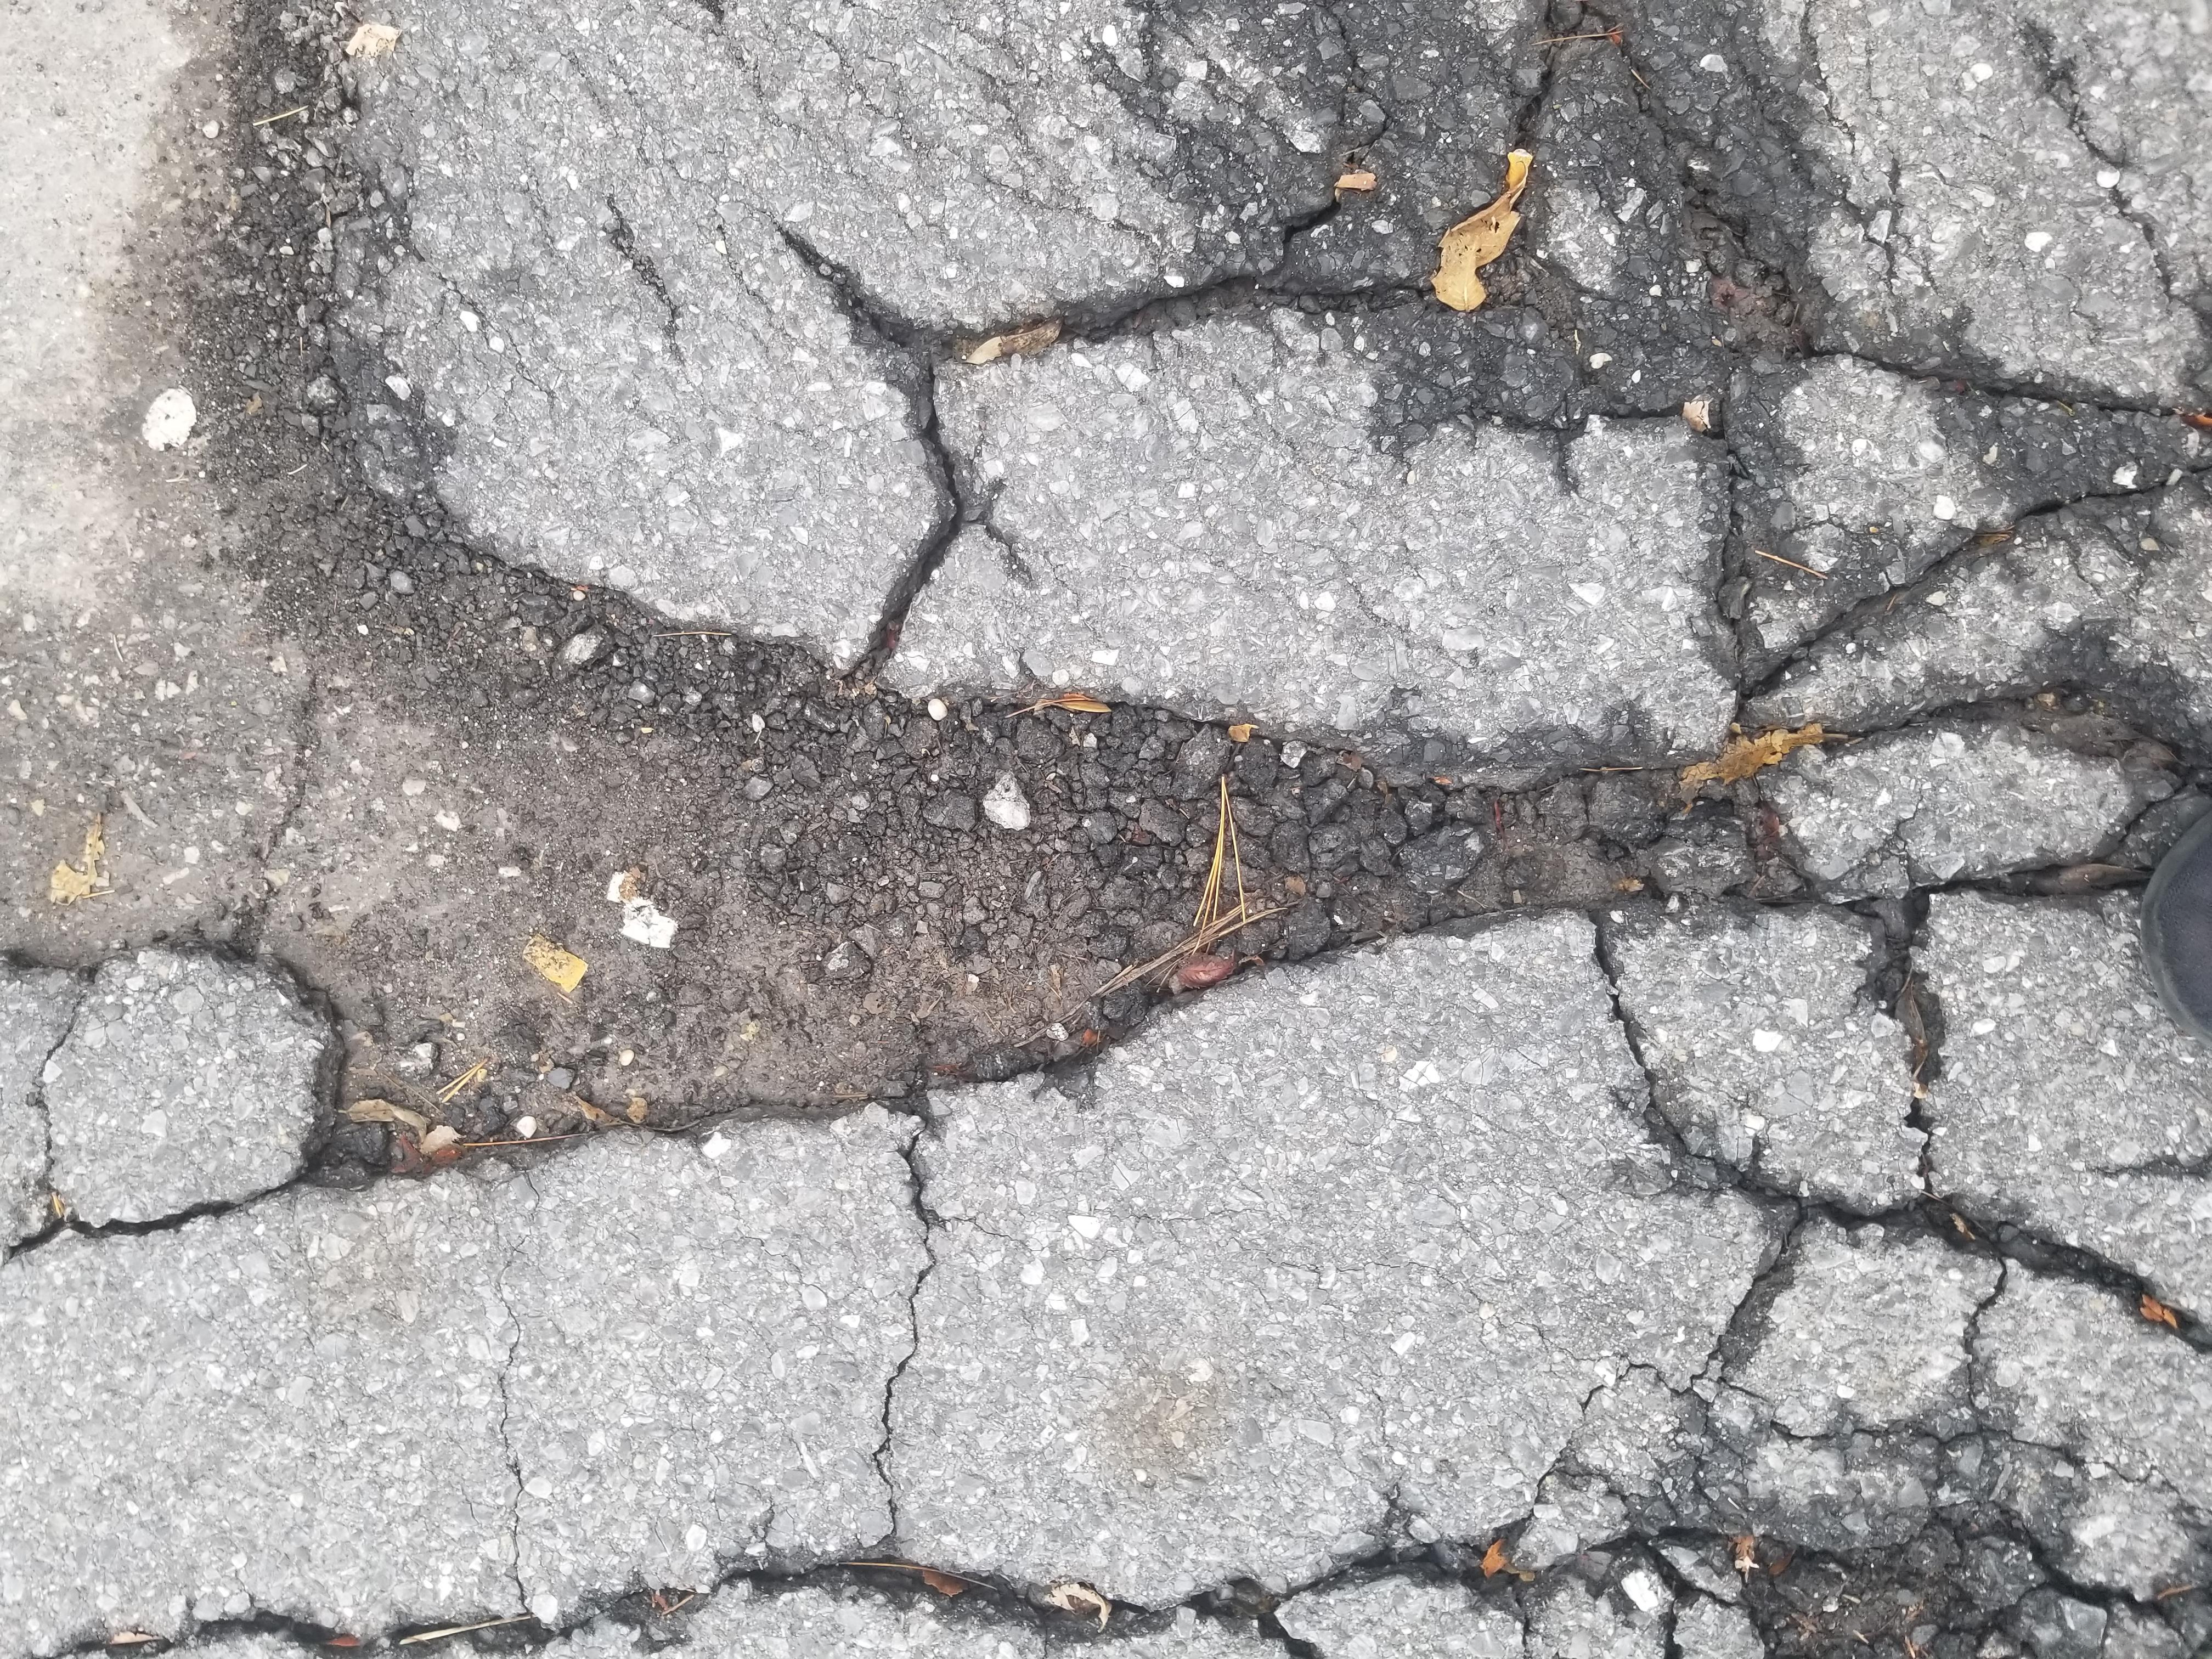alligator-crack: (16, 9, 2212, 1659)
